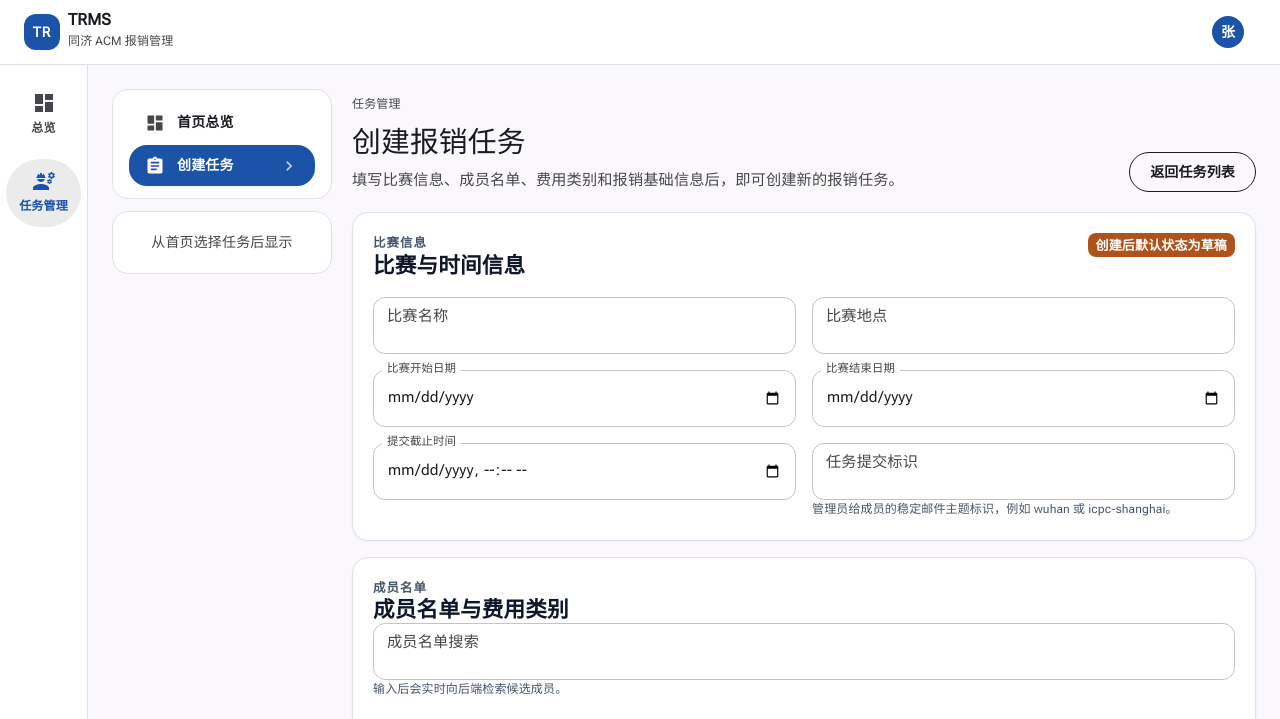
Test: admin task create page › blocks submit when the form contains invalid dates or blank member rows
The width and height of the screenshot is (1280, 719).
Type "ICPC 区域赛" into the field labelled "比赛名称".
click(584, 325); type("ICPC 区域赛")  # box [373,297,796,354]
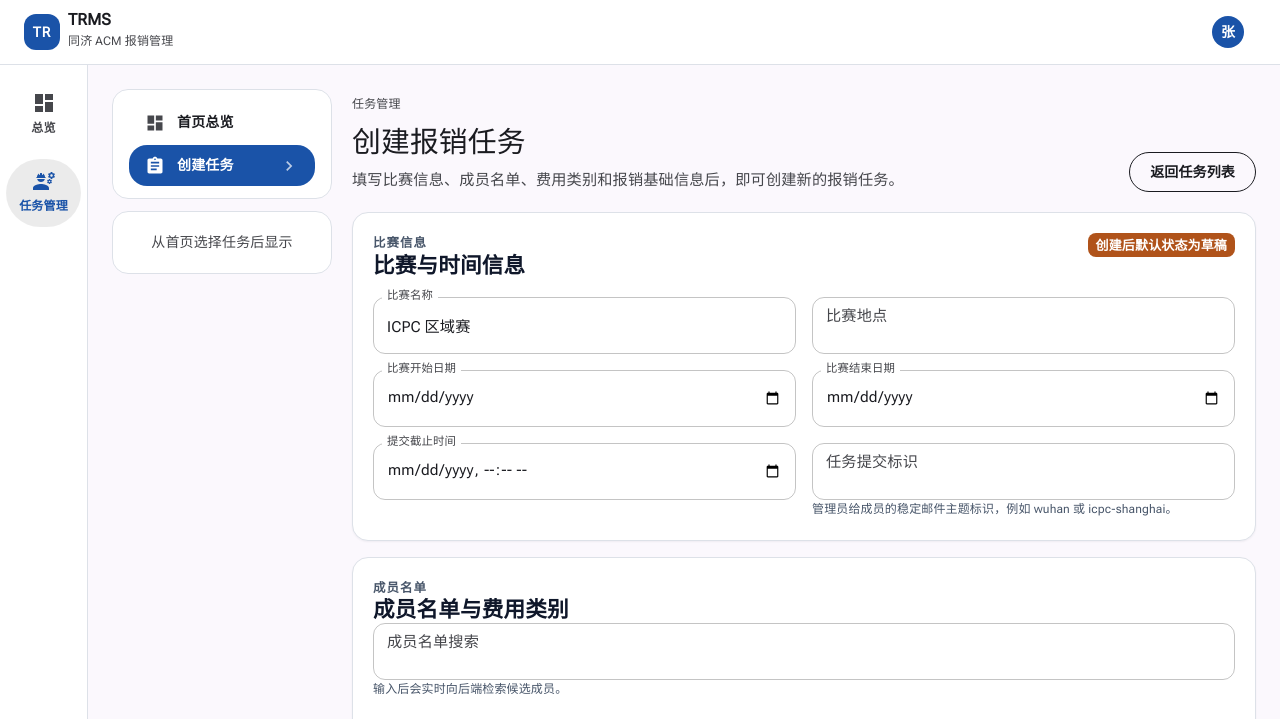
Type "上海" into the field labelled "比赛地点".
click(1024, 325); type("上海")  # box [812,297,1235,354]
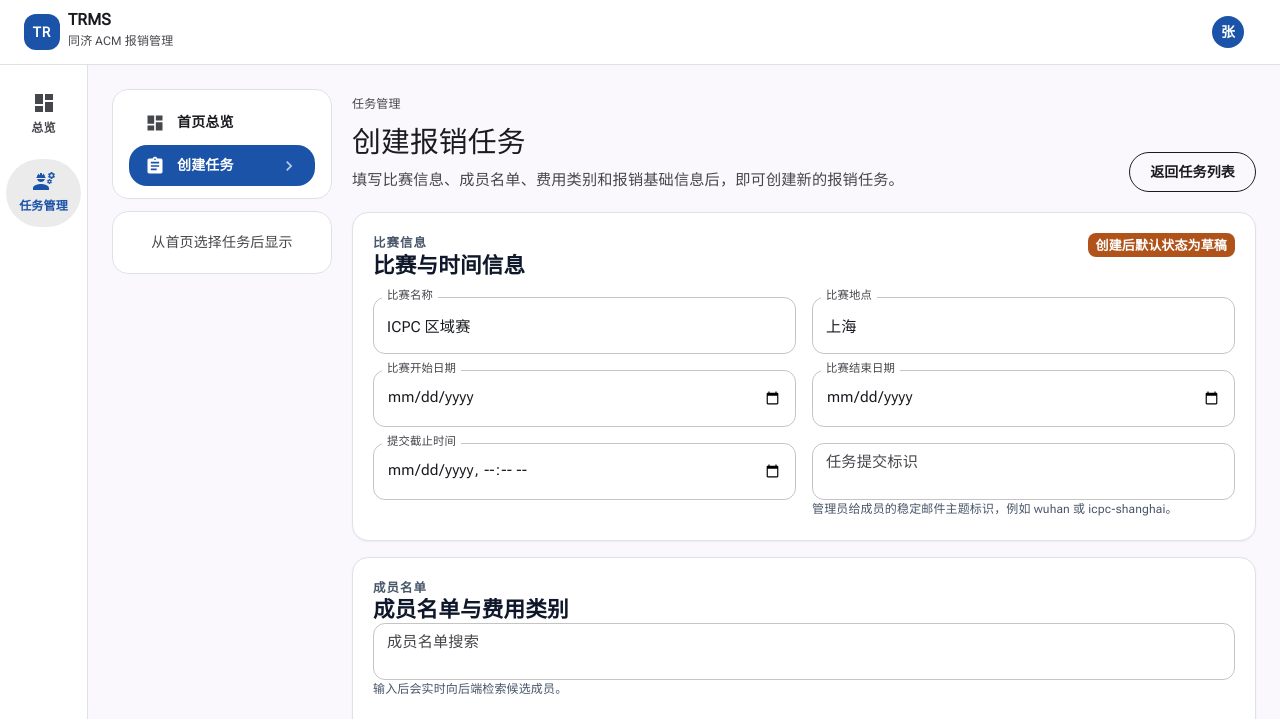
Type "2026-11-03" into the date field labelled "比赛开始日期".
click(584, 398); type("2026-11-03")  # box [373,370,796,427]
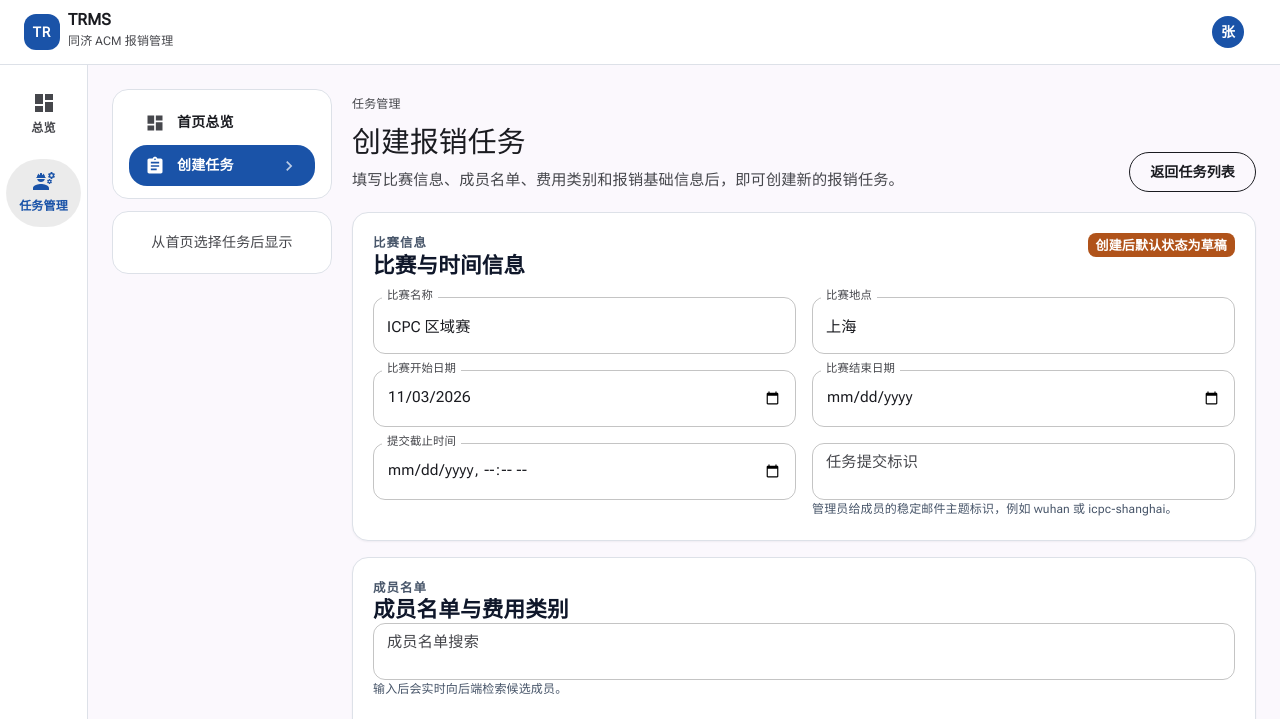
Type "2026-11-01" into the date field labelled "比赛结束日期".
click(1024, 398); type("2026-11-01")  # box [812,370,1235,427]
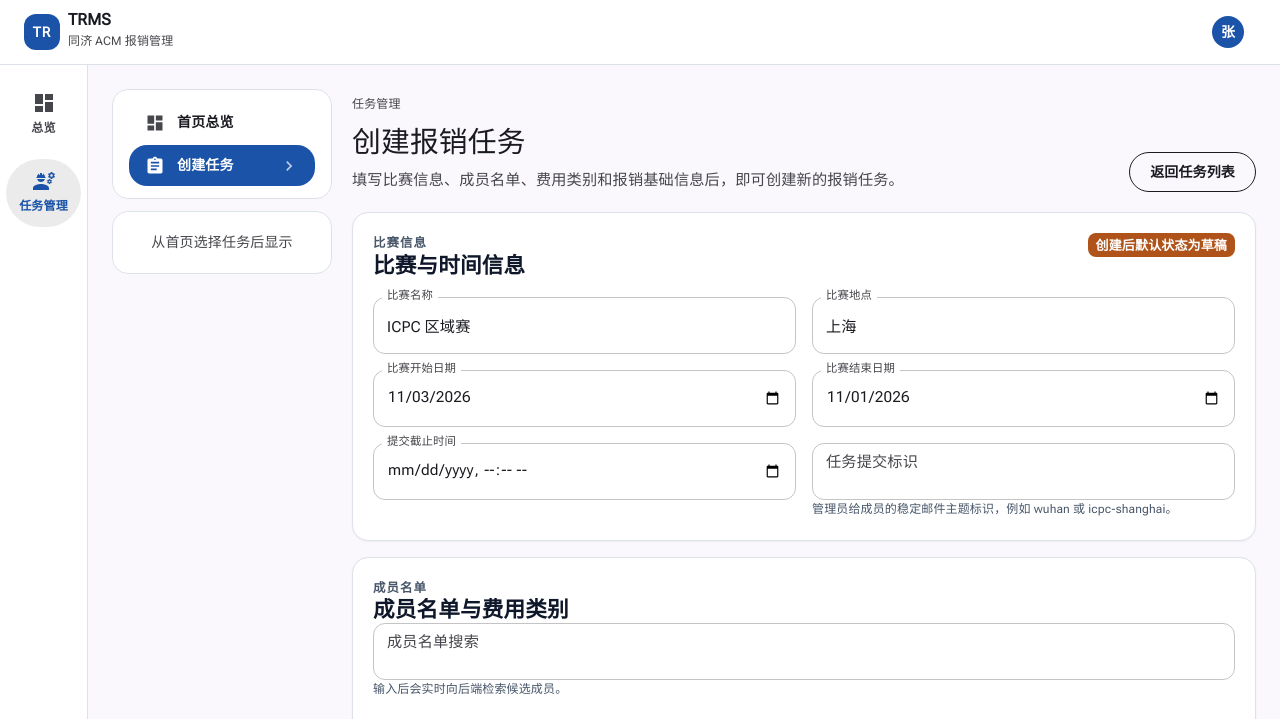
Type "2026-12-01T10:00" into the field labelled "提交截止时间".
click(584, 471); type("2026-12-01T10:00")  # box [373,443,796,500]
(page scrolled)
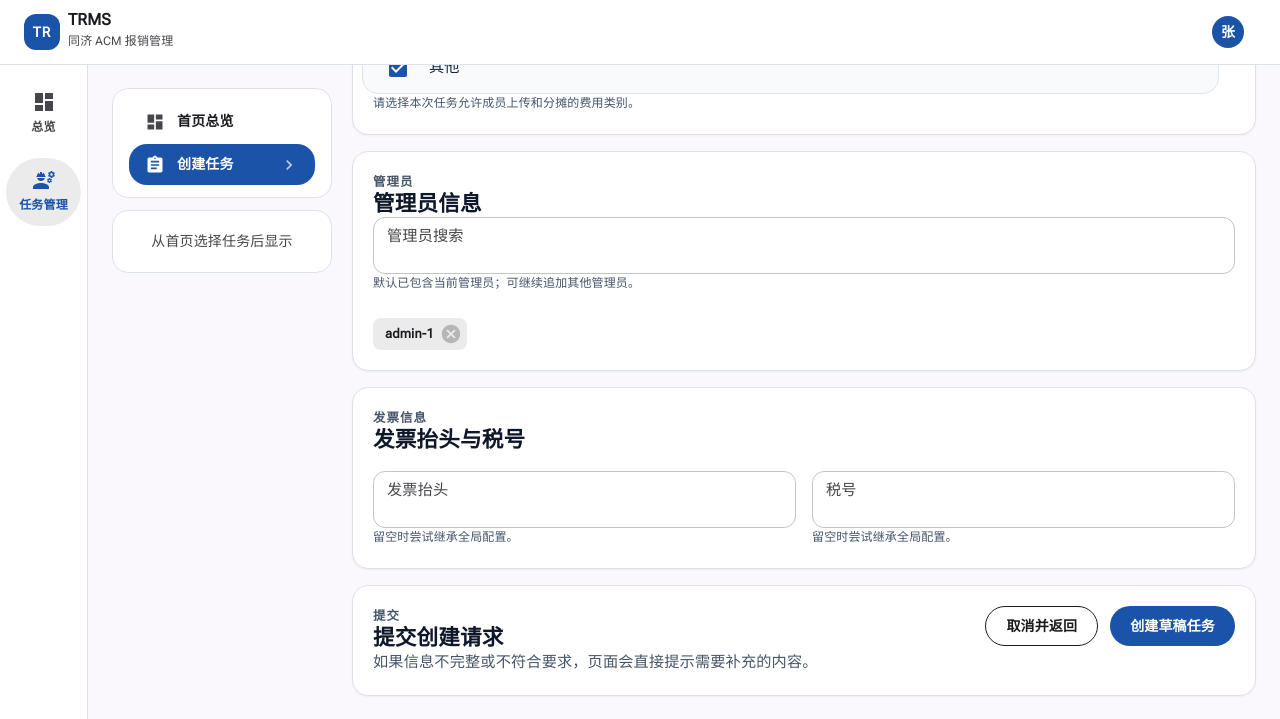
Click the button "创建草稿任务".
click(1173, 626)  # box [1110,606,1235,646]
(page scrolled)
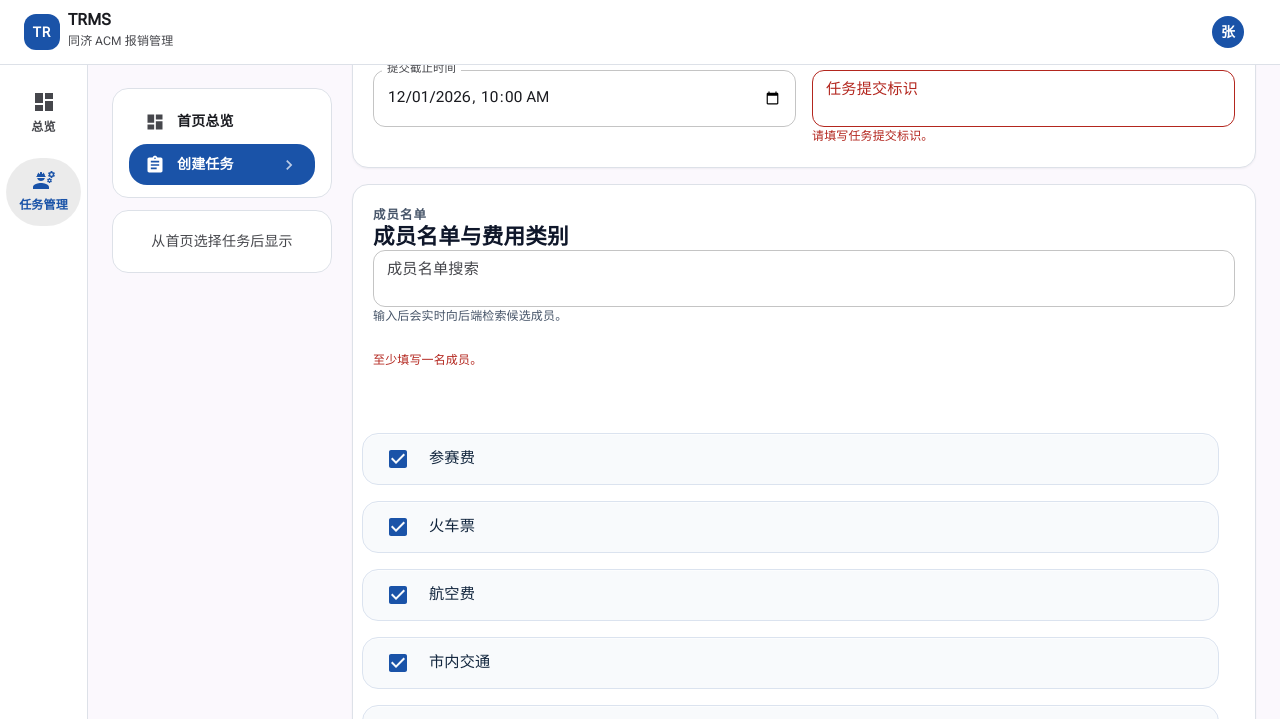
Expected: the text "至少填写一名成员。" is shown, [373,353,482,367]
